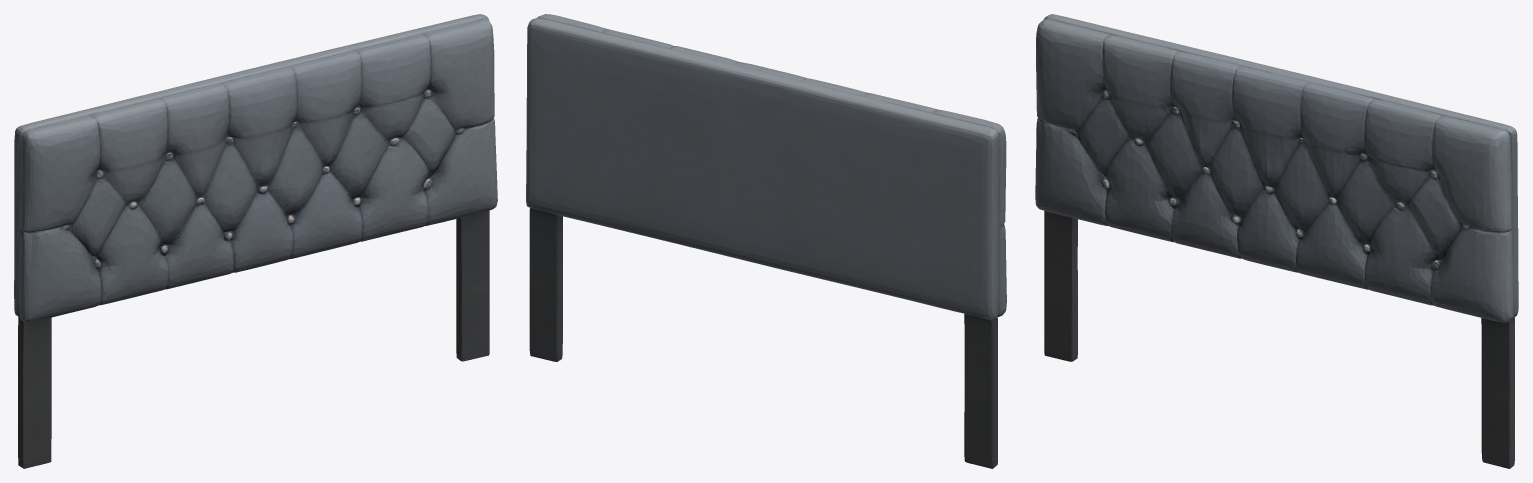
Rendered from nikkihb_headboard_nikki_1550x900_grey.glb.
3 views of the same model, side by side, from view 1: azimuth 30°, elevation 25°; view 2: azimuth 150°, elevation 25°; view 3: azimuth 330°, elevation 25° (orthographic).
Visible parts, largest first — view 1: world; view 2: world; view 3: world.
Boxes of the visible parts, <box> form: world: <box>14,14,497,468</box>; world: <box>526,14,1006,468</box>; world: <box>1035,14,1518,468</box>.
Bounding box in the file's own units: 0.9988 × 0.6823 × 0.0759.
1 material, 1 textured.
